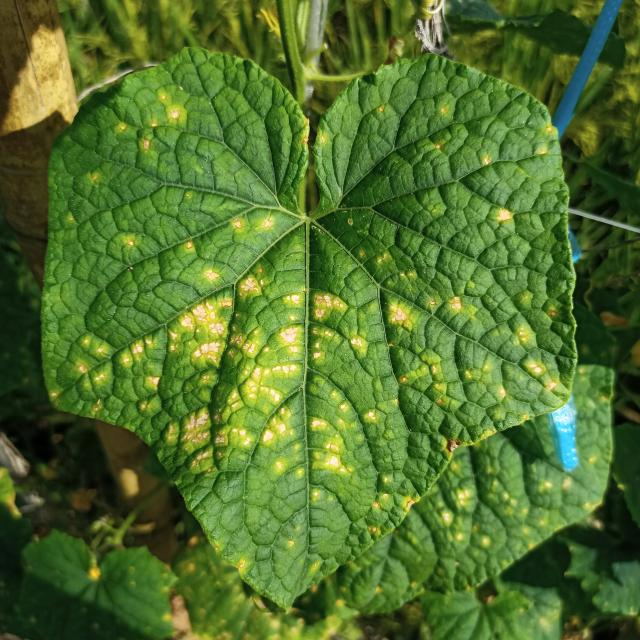disease_cucumber: (80, 89, 546, 538)
